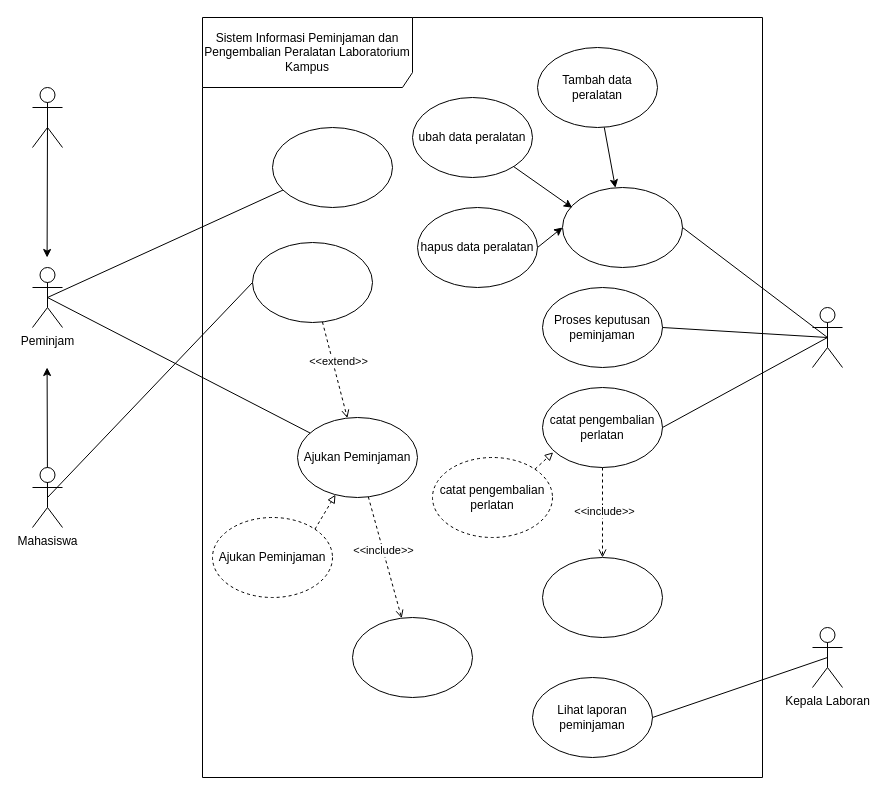
Image size: 890x795. Some labels were removed from this diagram. Here are the shapes that lost their labels. From the top down, the centre of each, then its label:
At point 47,117: "Dosen".
At point 332,167: "Lihat ketersediaann peralatan".
At point 622,227: "Kelola data peralatan".
At point 312,282: "Cetak bukti pengajuan".
At point 827,337: "Petugas Laboran".
At point 602,597: "periksa kondisi peralatan".
At point 412,657: "Periksa ketersediaan".
